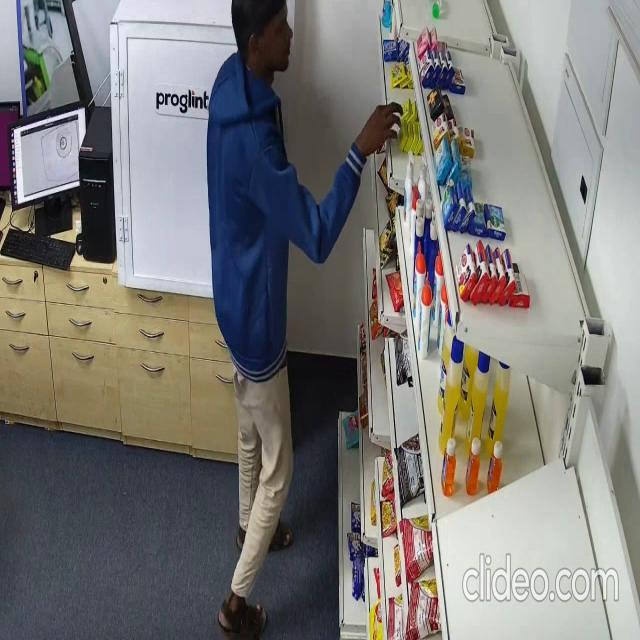normal: (203, 0, 408, 640)
